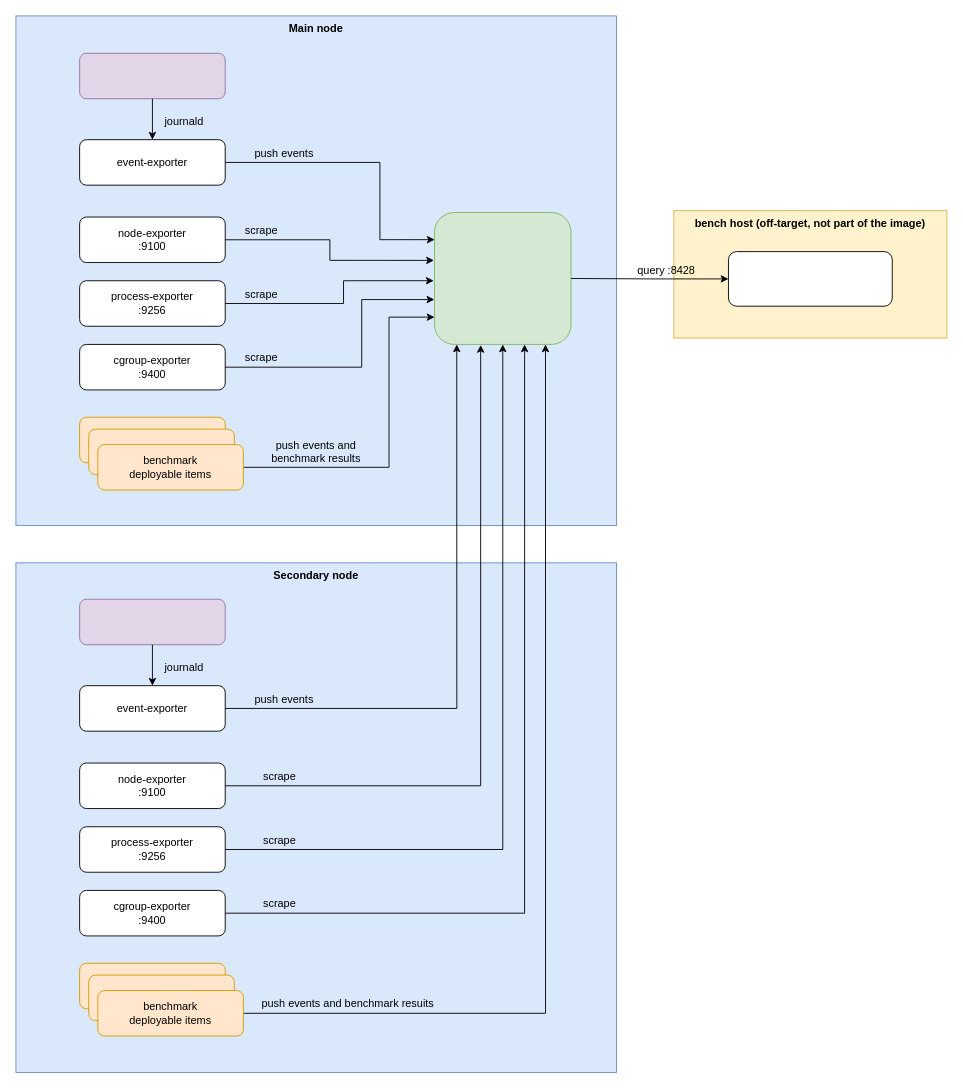
The diagram is 963 pixels wide and 1088 high, and some of its shapes have lost their labels. The shapes that lost their labels are listed below. From the top down, each one's centre as x and y in pixels, then its label:
pixel 152 75: CM / SM / IAM
pixel 502 278: victoria-metrics :8428
pixel 810 278: Grafana :3000
pixel 152 621: SM / IAM
